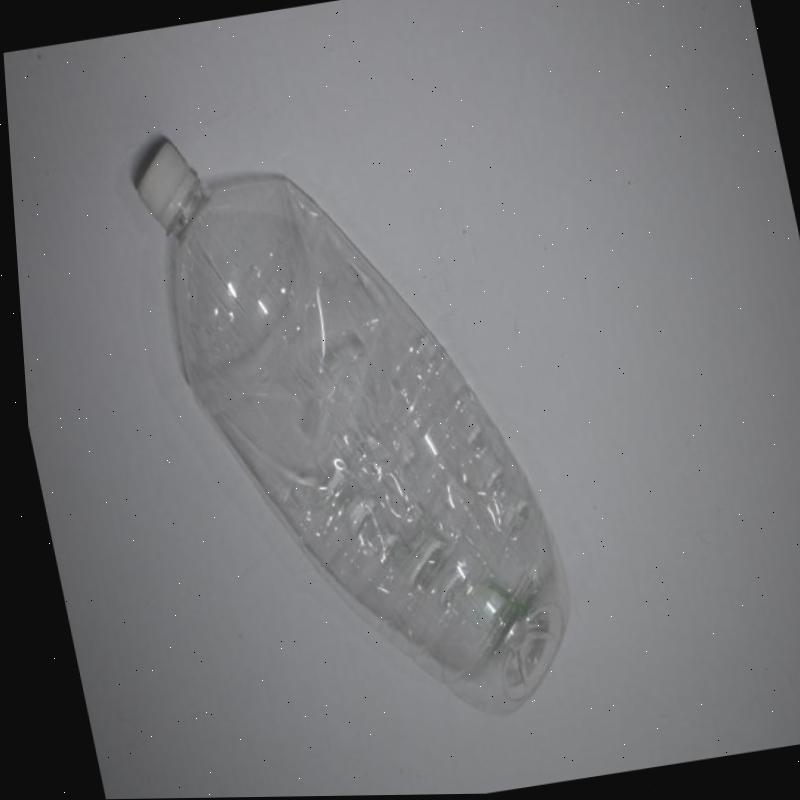botella: (117, 84, 588, 760)
